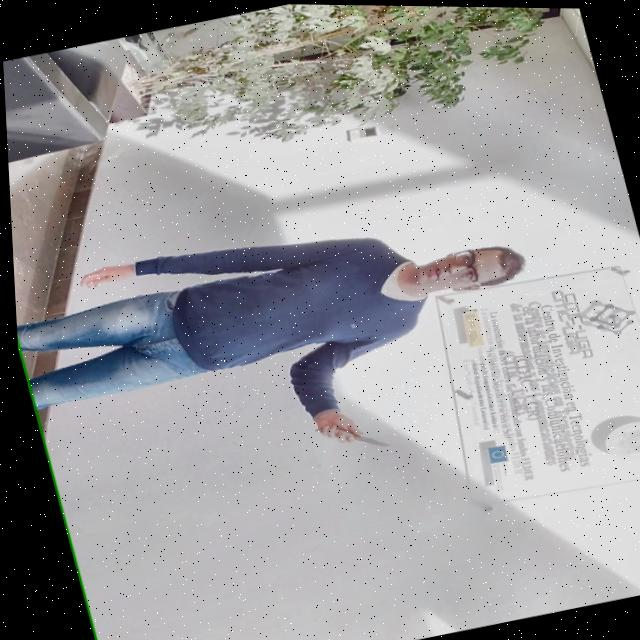knife: (345, 427, 383, 454)
